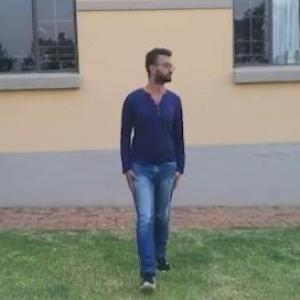follow: (115, 38, 192, 284)
